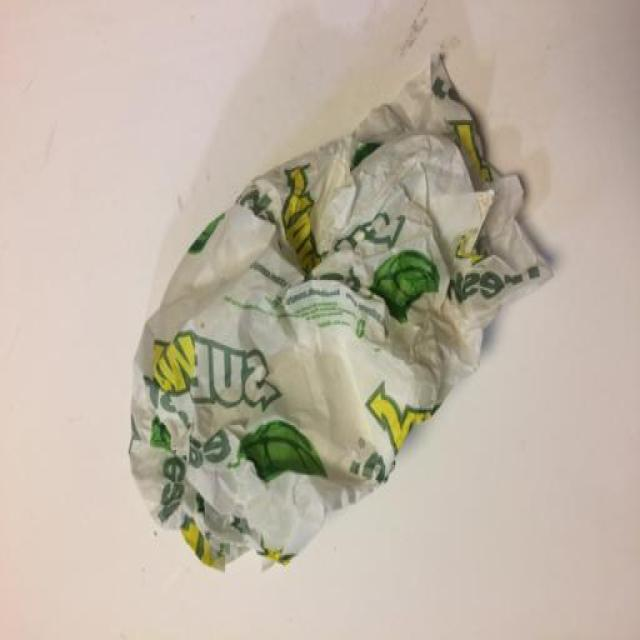Random Trash: (130, 43, 552, 572)
